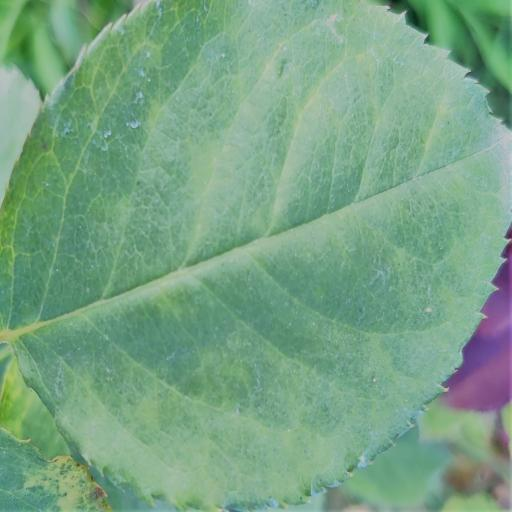healthy_leaf: (0, 0, 512, 508)
